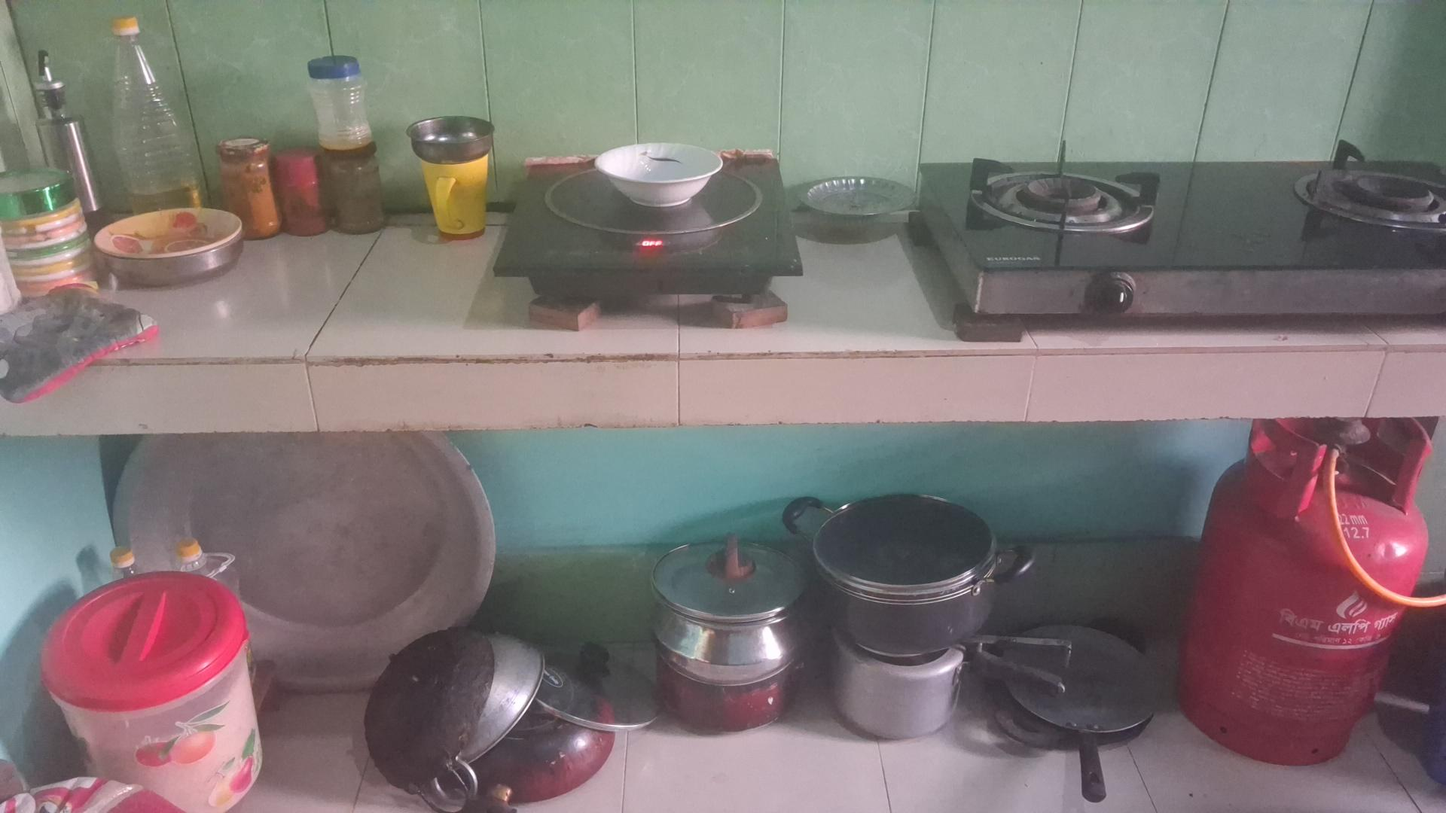Bottle: (106, 17, 200, 206)
Bowl: (89, 212, 252, 284), (592, 141, 727, 212), (798, 178, 922, 241)
Jar: (39, 566, 260, 806), (0, 169, 91, 291), (301, 59, 377, 150), (215, 134, 284, 234)
Mug: (423, 158, 486, 238)
Pan: (1006, 627, 1165, 798)
Pot: (781, 490, 1026, 650), (653, 542, 798, 687)
